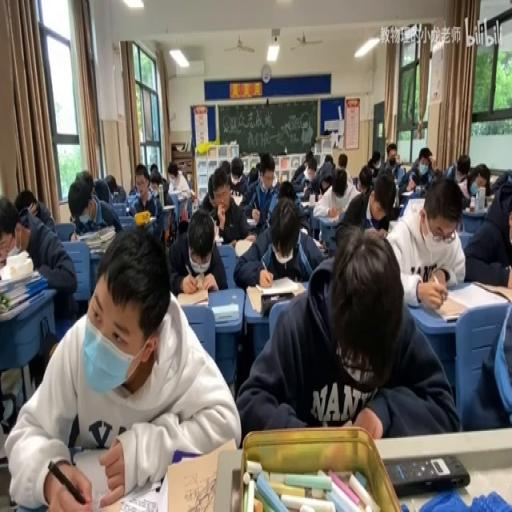calculator: (65, 444, 156, 508), (165, 441, 238, 512), (0, 260, 50, 320), (445, 280, 509, 313), (245, 278, 303, 314), (76, 226, 115, 253), (176, 287, 208, 307), (398, 194, 422, 220), (210, 302, 238, 322), (234, 236, 256, 256), (317, 213, 341, 225), (124, 192, 138, 212), (298, 194, 316, 208), (462, 206, 487, 215), (312, 238, 326, 250), (230, 194, 242, 206), (244, 214, 258, 224), (401, 189, 415, 196), (302, 184, 310, 196), (214, 234, 222, 244), (486, 192, 494, 202), (162, 204, 174, 210), (414, 183, 422, 192), (300, 228, 307, 236)
paper: (6, 226, 234, 508), (236, 228, 454, 440), (461, 174, 511, 284), (168, 206, 226, 296), (338, 168, 386, 233), (243, 151, 280, 232), (129, 161, 165, 240), (14, 189, 57, 235), (165, 161, 191, 229), (403, 145, 435, 195), (309, 154, 335, 196), (226, 155, 248, 199), (380, 142, 402, 182), (447, 152, 472, 181), (102, 174, 126, 204), (200, 174, 216, 216), (488, 170, 511, 196), (290, 154, 309, 184), (276, 179, 295, 202), (367, 150, 381, 176), (472, 172, 488, 194), (457, 180, 470, 204), (332, 174, 346, 196), (246, 164, 258, 186), (220, 159, 230, 178), (149, 164, 159, 180), (168, 171, 178, 186), (270, 168, 278, 186), (306, 162, 316, 176), (338, 154, 347, 169), (128, 182, 138, 195), (324, 154, 333, 165), (429, 155, 436, 169), (421, 155, 430, 165), (386, 151, 394, 162), (255, 160, 261, 170)
person: (386, 452, 470, 496)
